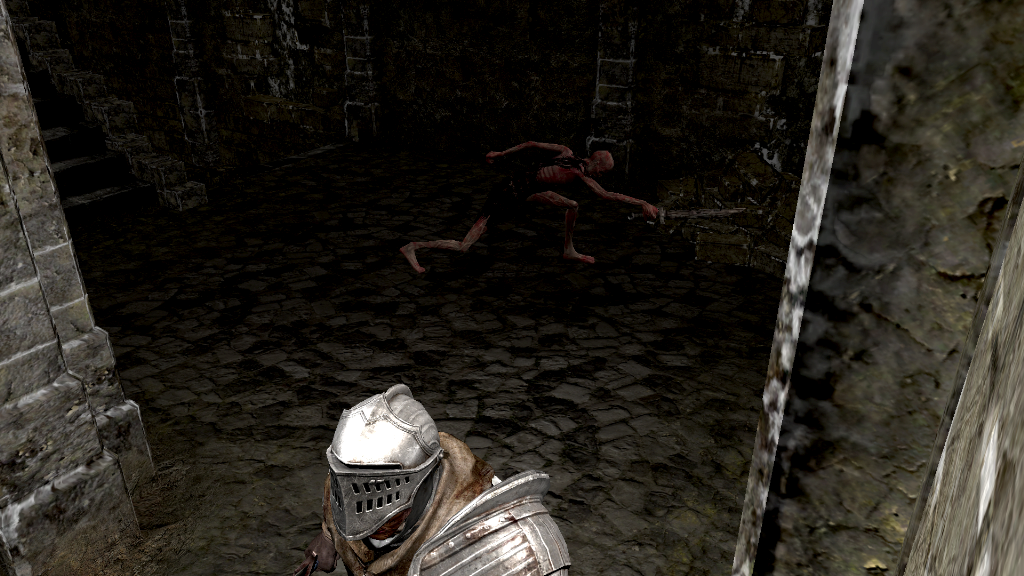hollow: (399, 138, 662, 272)
player: (293, 384, 574, 576)
